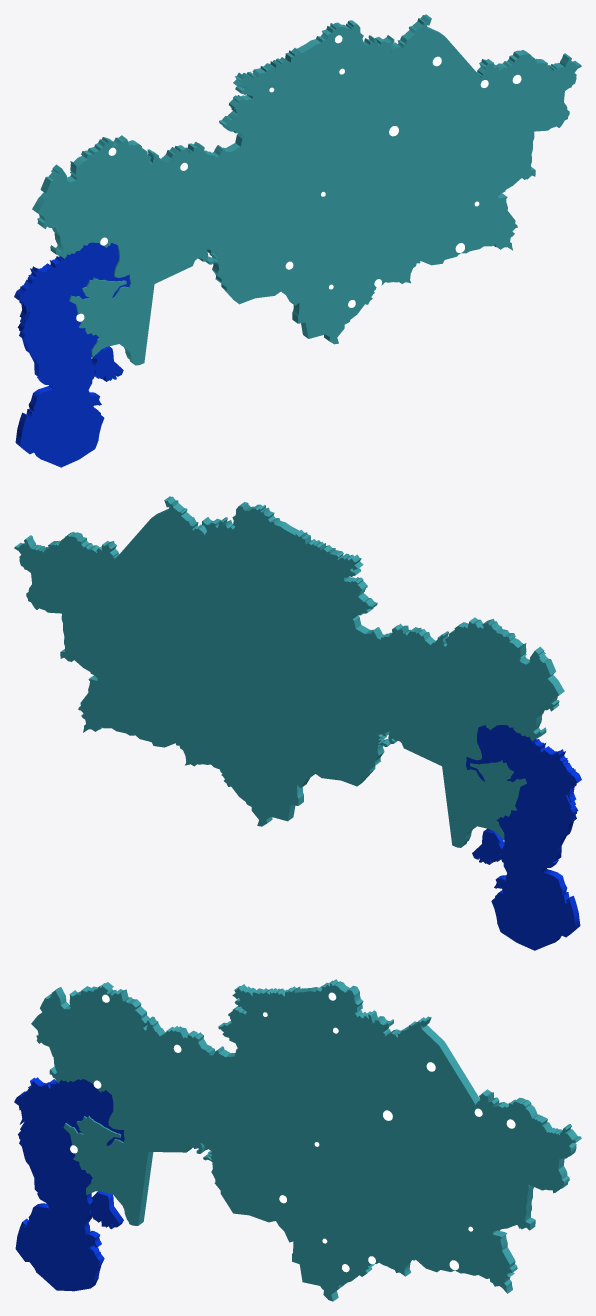
Rendered from kazakhstan.glb.
3 views of the same model, one above another, from view 1: azimuth 30°, elevation 25°; view 2: azimuth 150°, elevation 25°; view 3: azimuth 330°, elevation 25° (orthographic).
Size of the model in its own units: 4.61 by 2.93 by 0.102.
3 materials, 1 textured.
